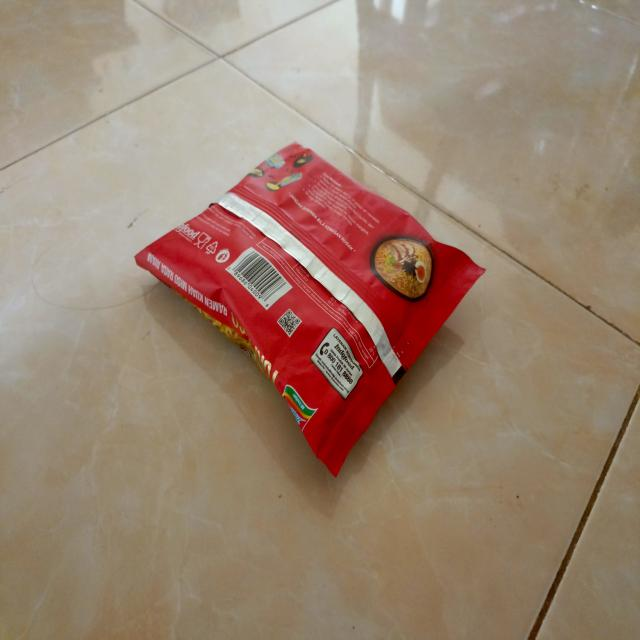indomie-tori-miso: (136, 139, 489, 480)
